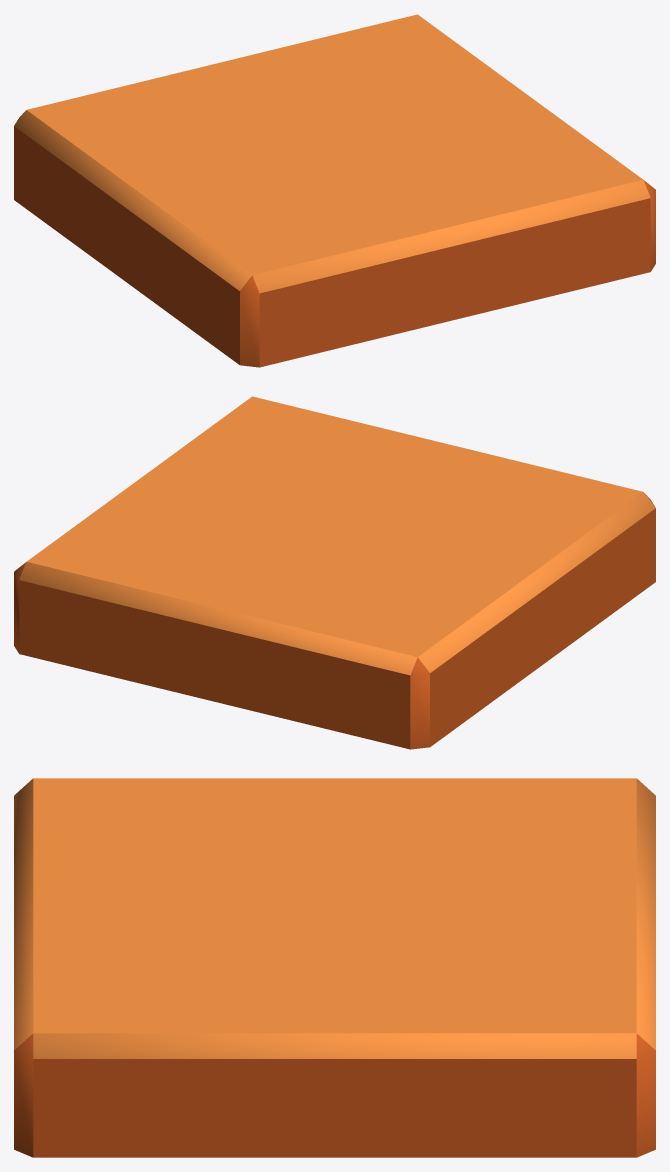
File: sand_tile.glb
The picture shows the model from 3 angles, top to bottom: view 1: azimuth 30°, elevation 25°; view 2: azimuth 150°, elevation 25°; view 3: azimuth 270°, elevation 25°; orthographic projection. The views are drawn at different scales.
Visible parts, largest first — view 1: sand_tile; view 2: sand_tile; view 3: sand_tile.
Part boxes in pixels (x1=…): sand_tile: x1=14, y1=14, x2=655, y2=367; sand_tile: x1=14, y1=396, x2=655, y2=749; sand_tile: x1=14, y1=778, x2=655, y2=1157.
Size of the model in its own units: 1 by 0.2 by 1.
1 material, 1 textured.
